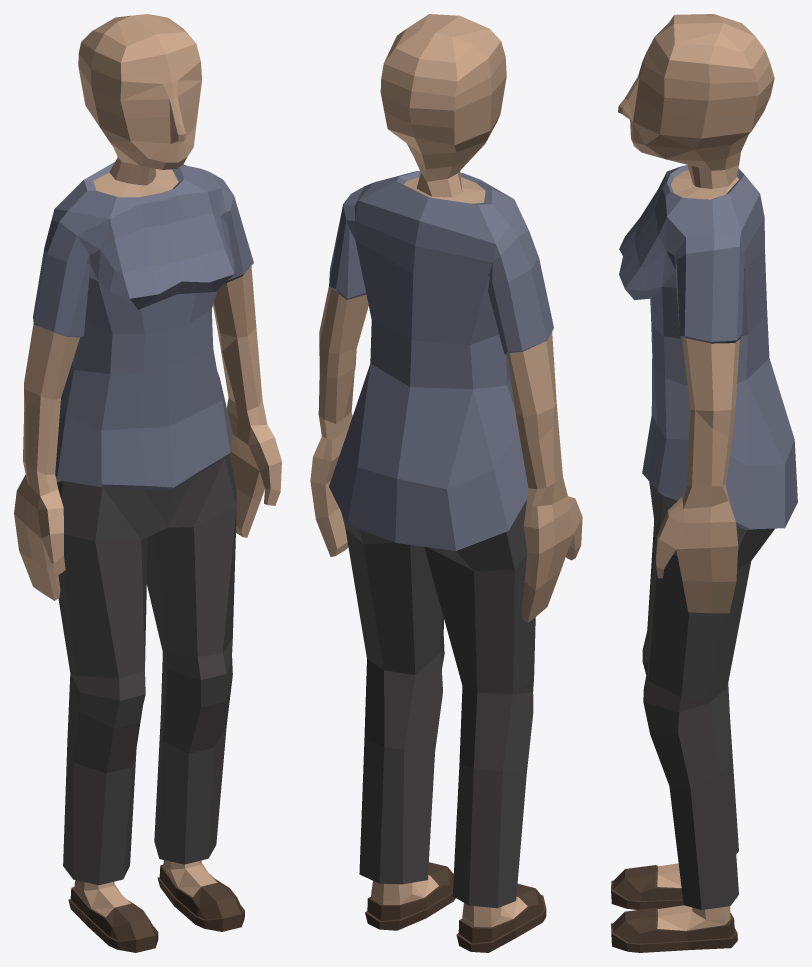
The model's file is Female_Standing.obj.
3 views of the same model, side by side, from view 1: azimuth 30°, elevation 25°; view 2: azimuth 150°, elevation 25°; view 3: azimuth 270°, elevation 25° (orthographic). The views are drawn at different scales.
Visible parts, largest first — view 1: Female_Standing_Cylinder.007; view 2: Female_Standing_Cylinder.007; view 3: Female_Standing_Cylinder.007.
Boxes of the visible parts, x1,y1,x2,y2 form: Female_Standing_Cylinder.007: [14, 14, 281, 952]; Female_Standing_Cylinder.007: [310, 14, 582, 952]; Female_Standing_Cylinder.007: [611, 14, 797, 952].
Bounding box in the file's own units: 1.01 × 3.7 × 0.6994.
